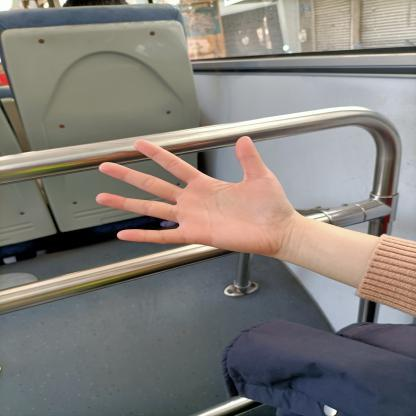bare_hand: (90, 123, 304, 269)
